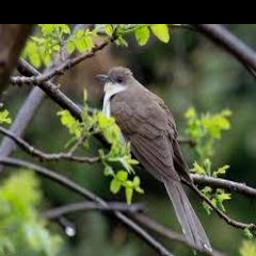Cuckoo: (95, 65, 213, 256)
